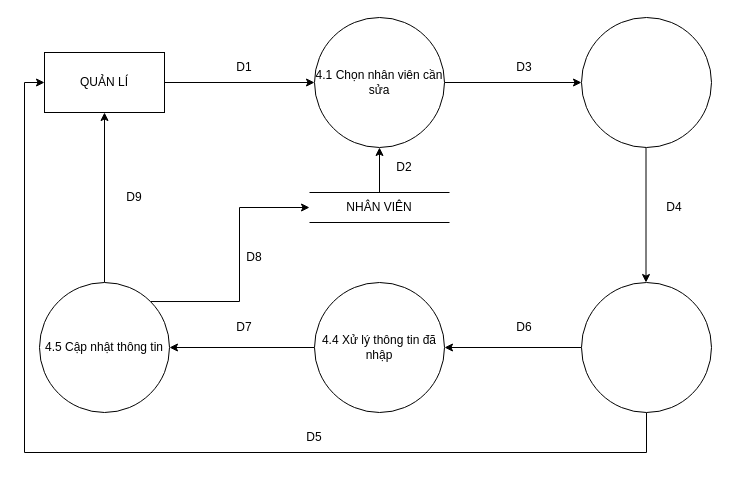
Image size: 729x478. Some labels were removed from this diagram. Here are the shapes that lost their labels. From the top down, the centre of each, then its label:
At [646,82]: "4.2 Nhập thông tin sửa".
At [646,347]: "4.3 Kiểm tra thông tin đã nhập".
